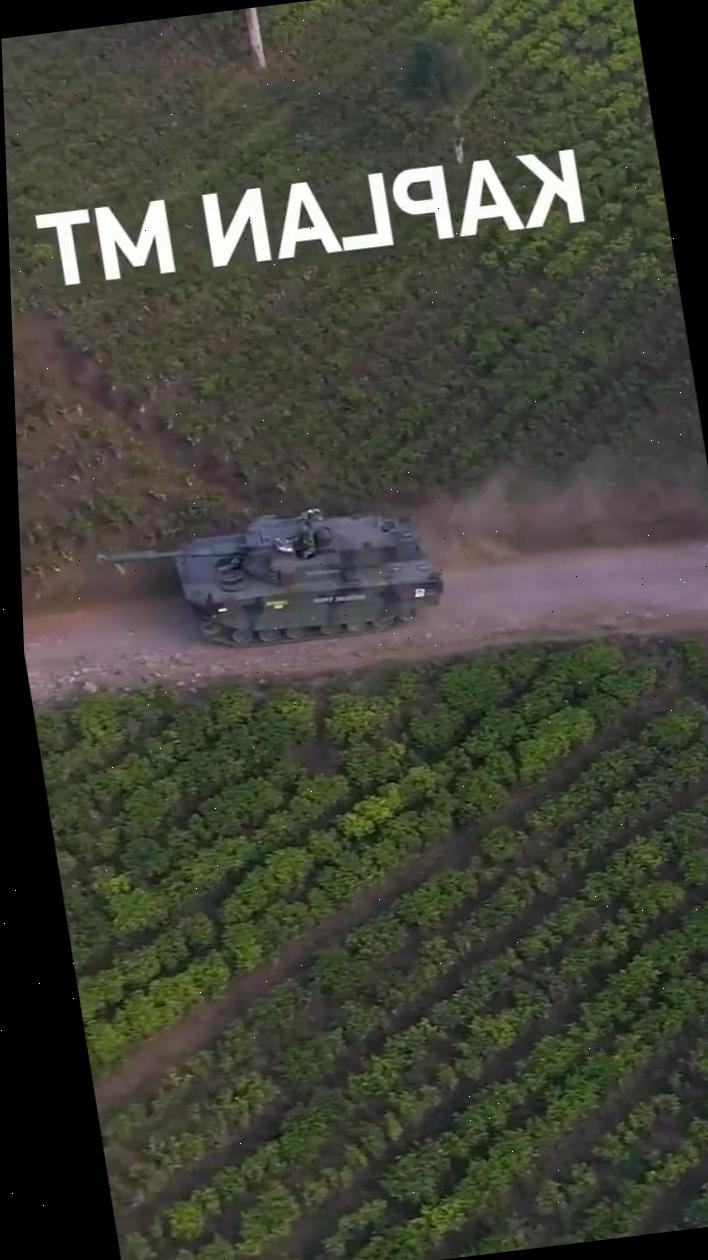tank: (94, 494, 452, 664)
